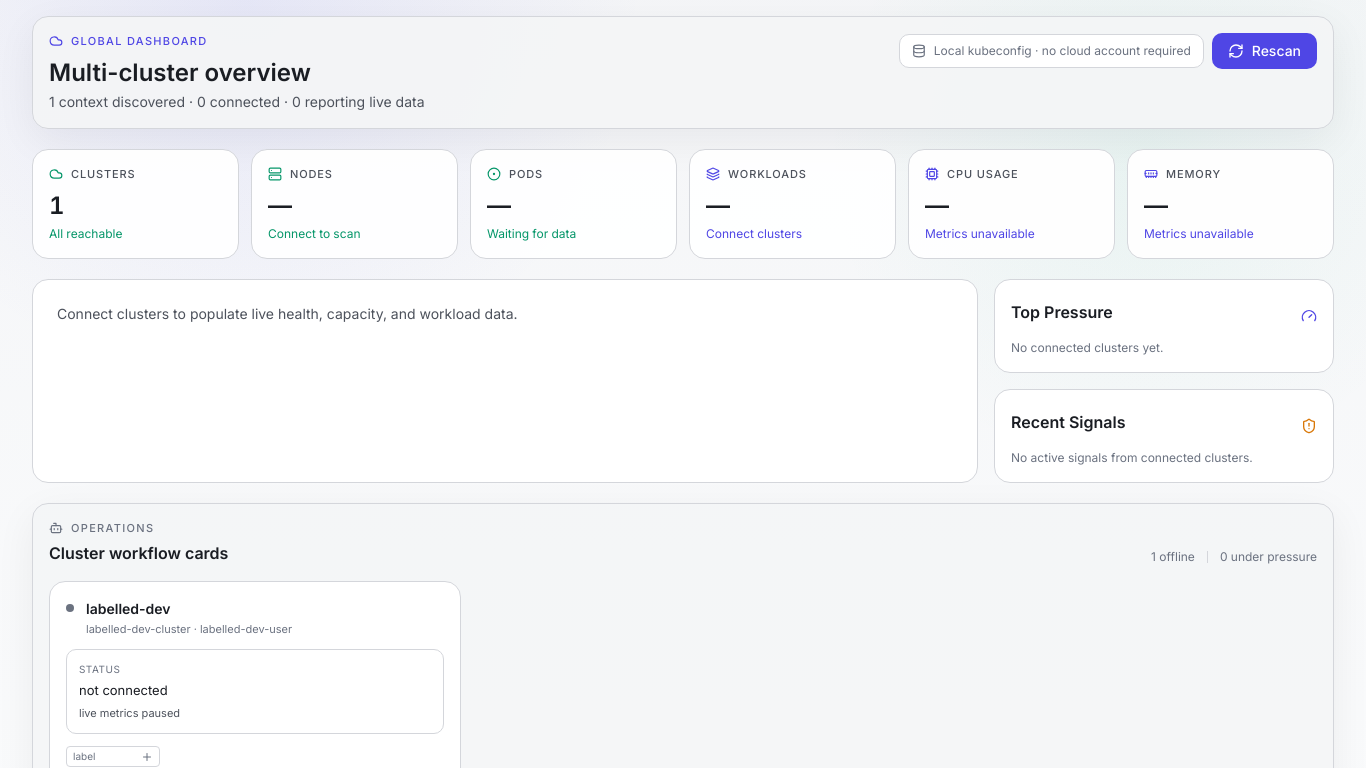
Test: FleetView › lets users add multiple persistent labels to a cluster
The image size is (1366, 768).
In the field named "add label to labelled-dev": (105, 756) [73,749,137,764], type "stage"
Then press Enter
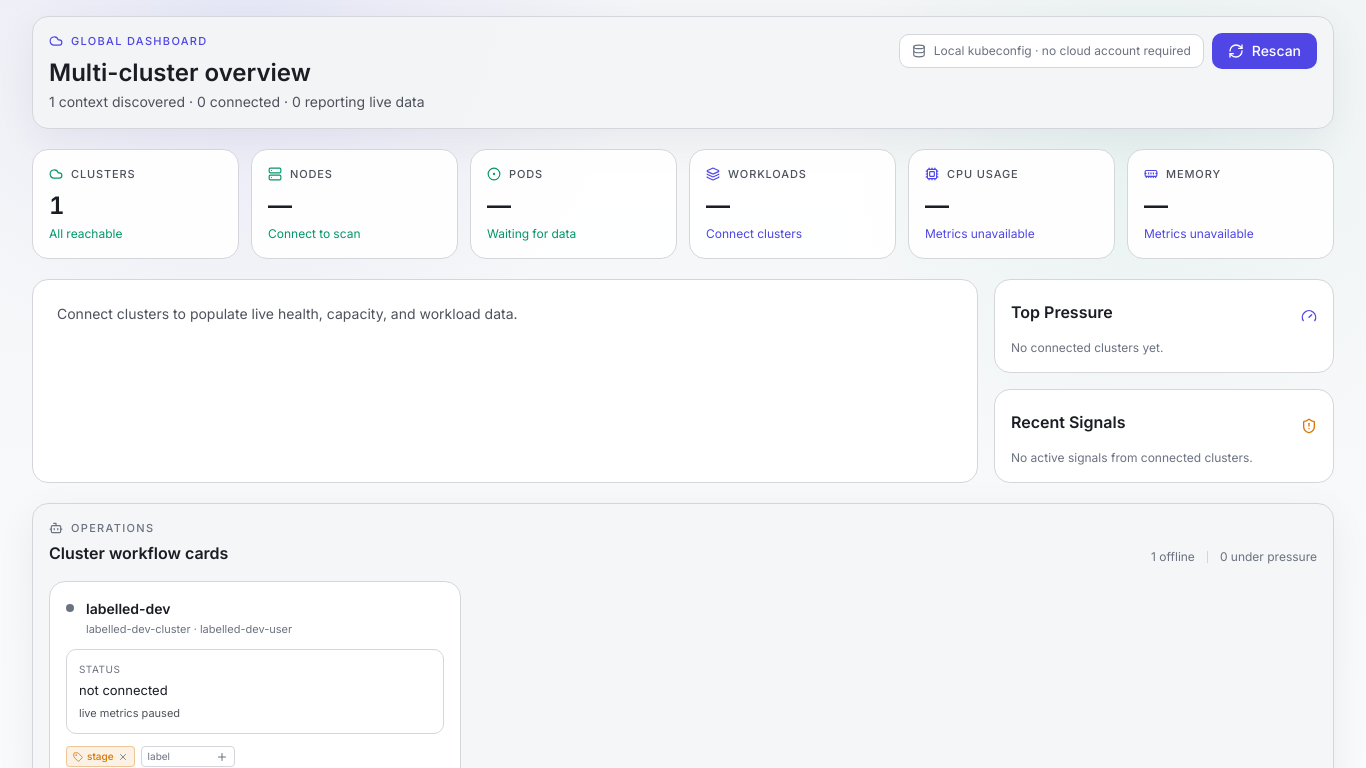
In the field named "add label to labelled-dev": (180, 756) [148,749,212,764], type "payments"
Then press Enter
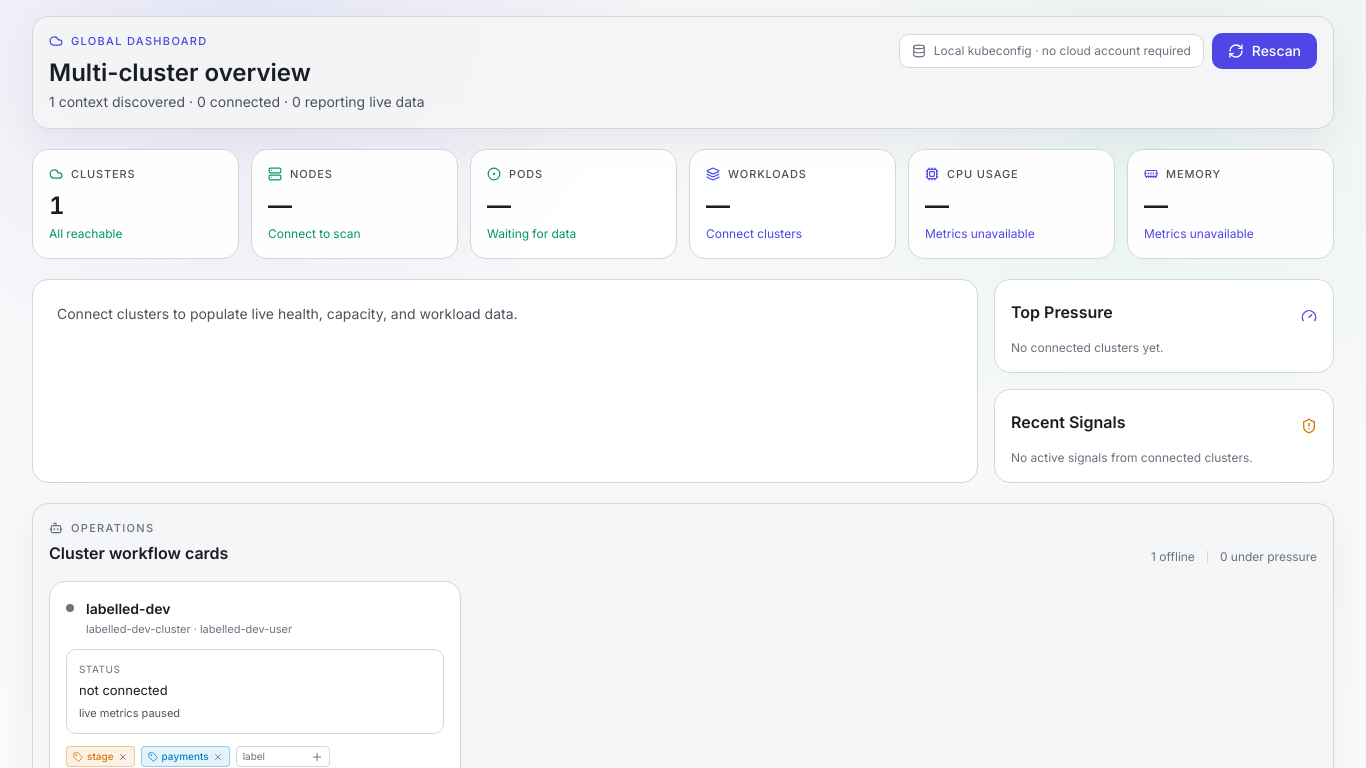
expect the text "stage" is shown: met, box [66,746,135,767]
expect the text "payments" is shown: met, box [141,746,230,767]
